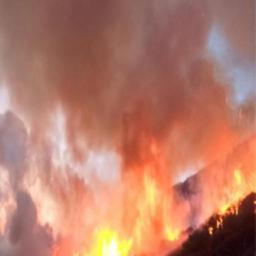Heavy smoke: (0, 0, 255, 256)
Large fire: (0, 119, 255, 255)
